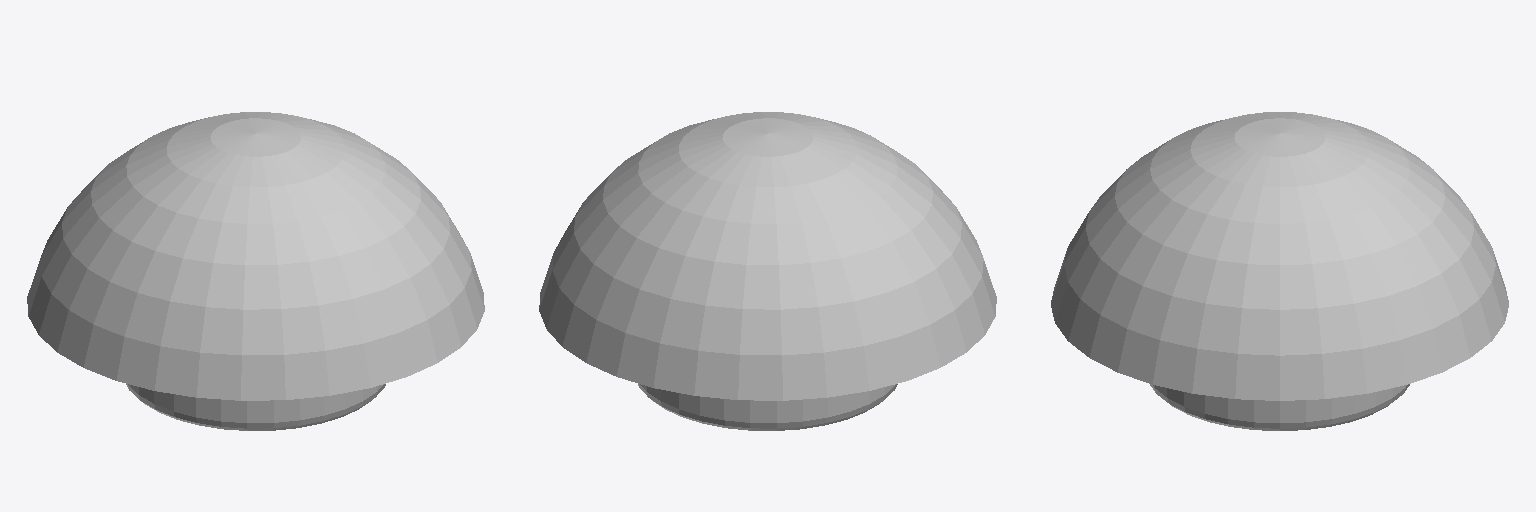
The model's file is fungo3.obj.
3 renders of one model, left to right at view 1: azimuth 30°, elevation 25°; view 2: azimuth 150°, elevation 25°; view 3: azimuth 270°, elevation 25°, orthographic.
Visible parts, largest first — view 1: Sfera, Score1_Cylinder.005; view 2: Sfera, Score1_Cylinder.005; view 3: Sfera, Score1_Cylinder.005.
Boxes of the visible parts, x1,y1,x2,y2 form: Sfera: [27, 112, 484, 400]; Score1_Cylinder.005: [126, 384, 385, 430]; Sfera: [539, 112, 996, 400]; Score1_Cylinder.005: [638, 384, 897, 430]; Sfera: [1051, 112, 1508, 400]; Score1_Cylinder.005: [1150, 384, 1409, 430].
Bounding box in the file's own units: 0.9808 × 0.5779 × 0.9808.